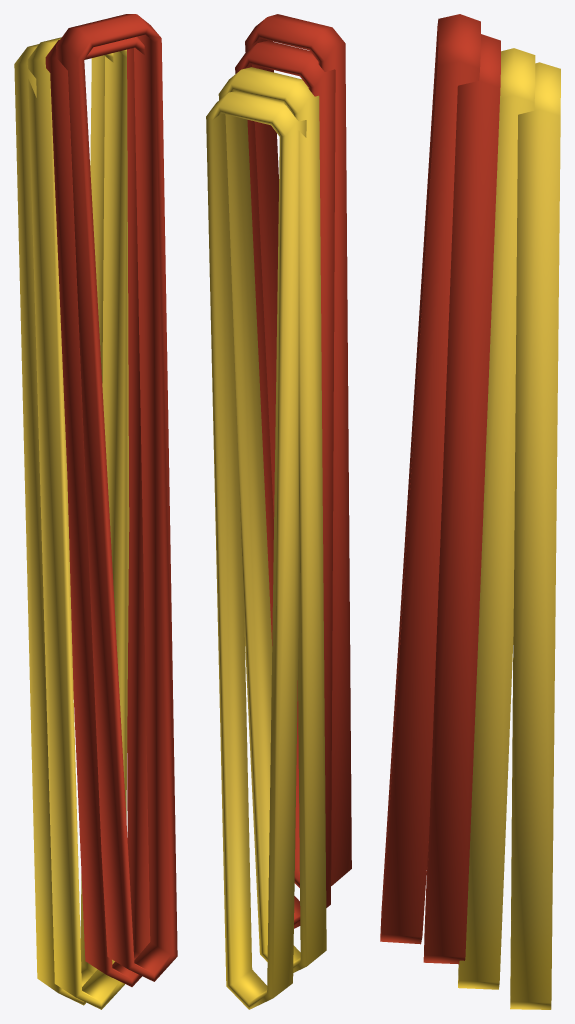
The model's file is band_4.glb.
The picture shows the model from 3 angles, left to right: view 1: azimuth 30°, elevation 25°; view 2: azimuth 150°, elevation 25°; view 3: azimuth 270°, elevation 25°; orthographic projection. The views are drawn at different scales.
Parts seen in each view (by area): view 1: GymEquipments_14; view 2: GymEquipments_14; view 3: GymEquipments_14.
Boxes of the visible parts, x1,y1,x2,y2 form: GymEquipments_14: (14,14,177,1009); GymEquipments_14: (206,14,351,1009); GymEquipments_14: (380,14,560,1009).
Bounding box in the file's own units: 0.0366 × 0.4168 × 0.0695.
Materials: 1 (1 with a texture image).
